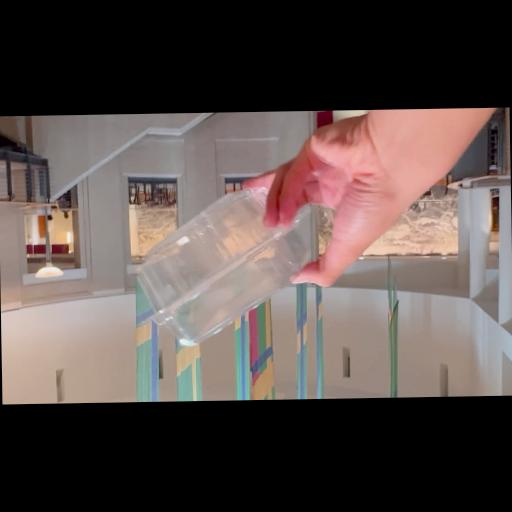small_plastic_container: (124, 170, 340, 356)
